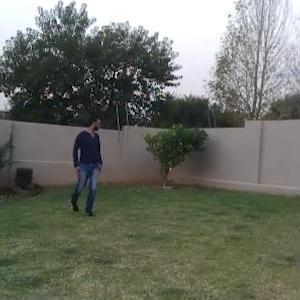follow: (66, 107, 109, 231)
